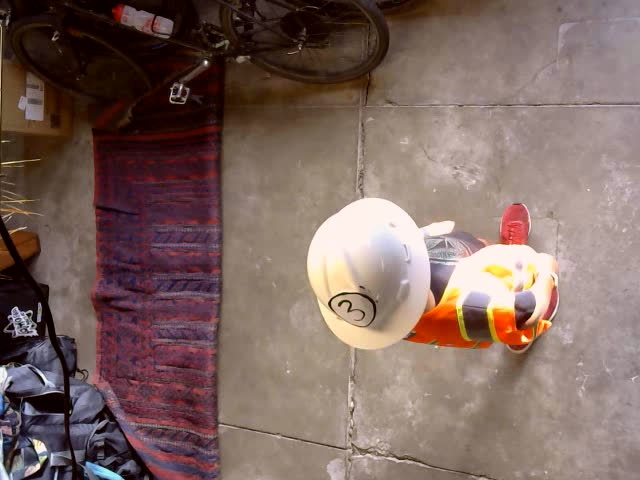three: (329, 292, 375, 326)
